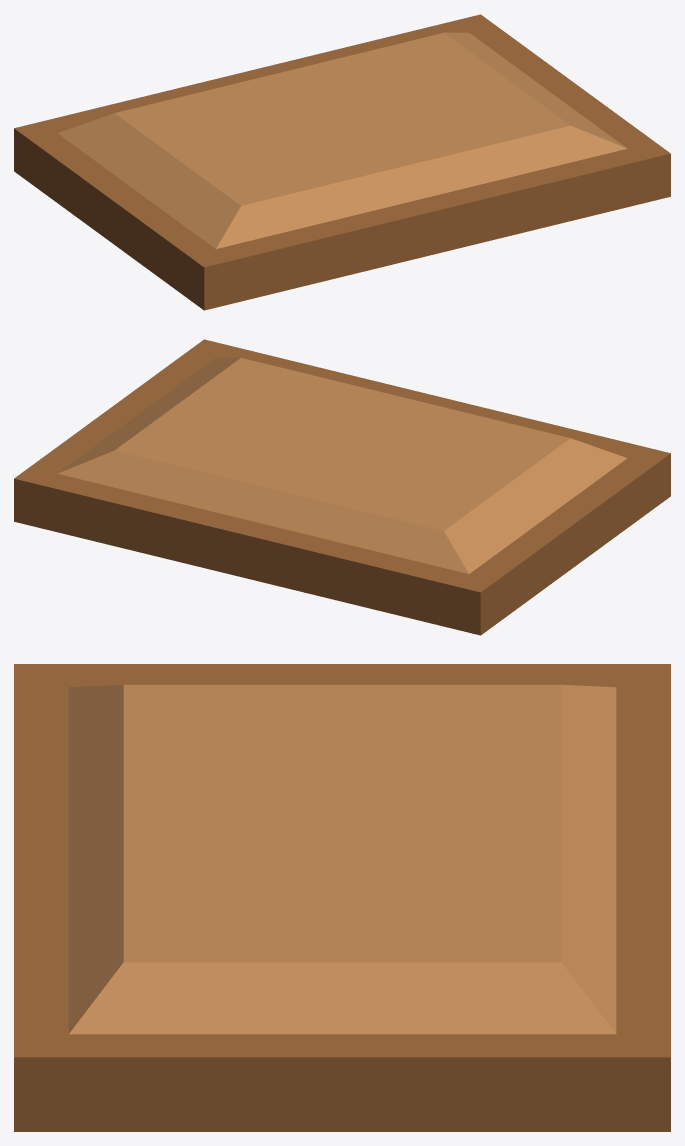
Rendered from drop_leather.glb.
3 renders of one model, top to bottom at view 1: azimuth 30°, elevation 25°; view 2: azimuth 150°, elevation 25°; view 3: azimuth 270°, elevation 25°, orthographic. The views are drawn at different scales.
Visible parts, largest first — view 1: drop_leather; view 2: drop_leather; view 3: drop_leather.
Boxes of the visible parts, x1,y1,x2,y2 form: drop_leather: (14, 14, 670, 310); drop_leather: (14, 339, 670, 635); drop_leather: (14, 664, 670, 1131).
Size of the model in its own units: 0.34 by 0.045 by 0.24.
